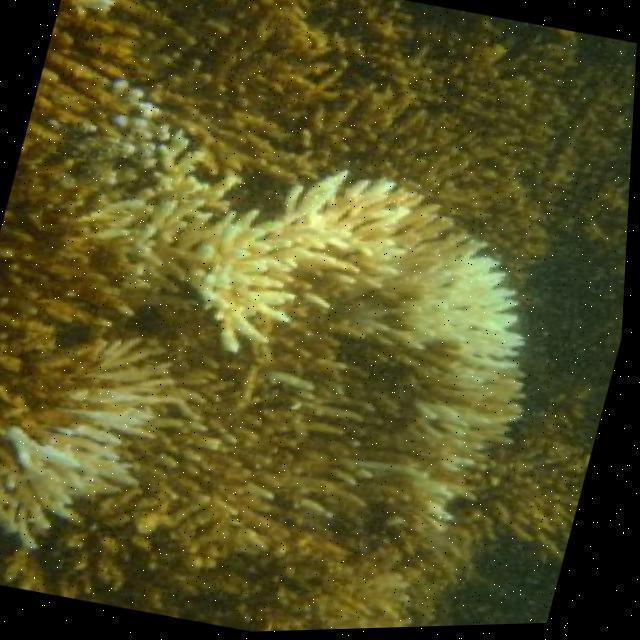Bleached Coral: (99, 120, 464, 378), (366, 210, 578, 563), (0, 312, 270, 570)
